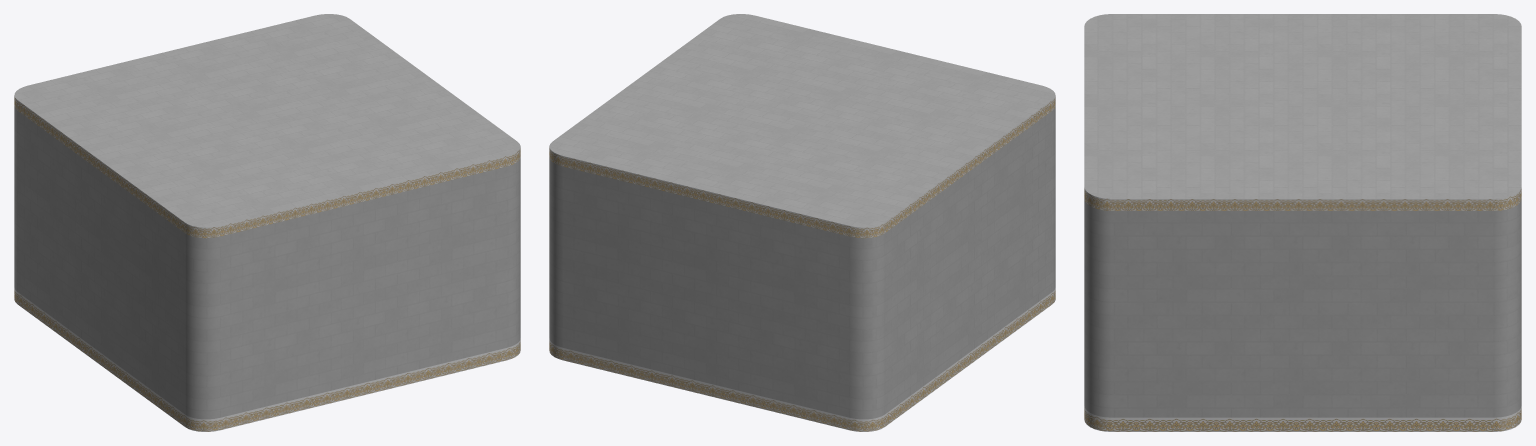
Rendered from SM_module_02.glb.
3 views of the same model, side by side, from view 1: azimuth 30°, elevation 25°; view 2: azimuth 150°, elevation 25°; view 3: azimuth 270°, elevation 25° (orthographic). The views are drawn at different scales.
Visible parts, largest first — view 1: SM_module_02; view 2: SM_module_02; view 3: SM_module_02.
Boxes of the visible parts, x1,y1,x2,y2 form: SM_module_02: [14, 14, 520, 431]; SM_module_02: [549, 14, 1055, 431]; SM_module_02: [1084, 14, 1521, 431].
Bounding box in the file's own units: 14.94 × 8.78 × 14.94.
2 materials, 2 textured.
